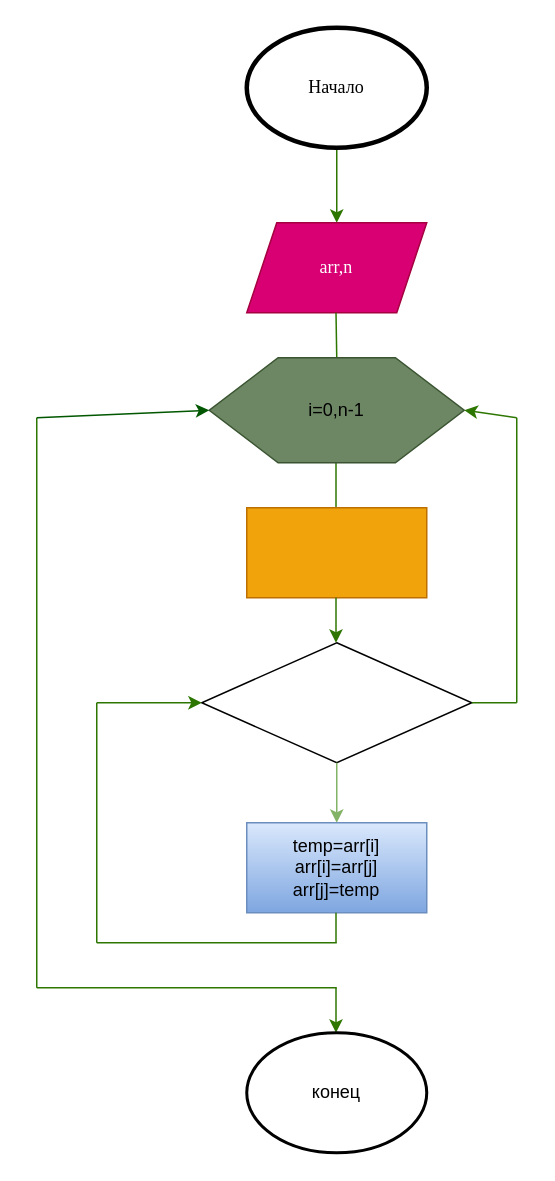
Image size: 555x1181. Some labels were removed from this diagram. The centre of each missing label's shape, as x and y in pixels:
j=i+1: (336,552)
j>=0 && arr[j]<arr[i]: (336,702)
